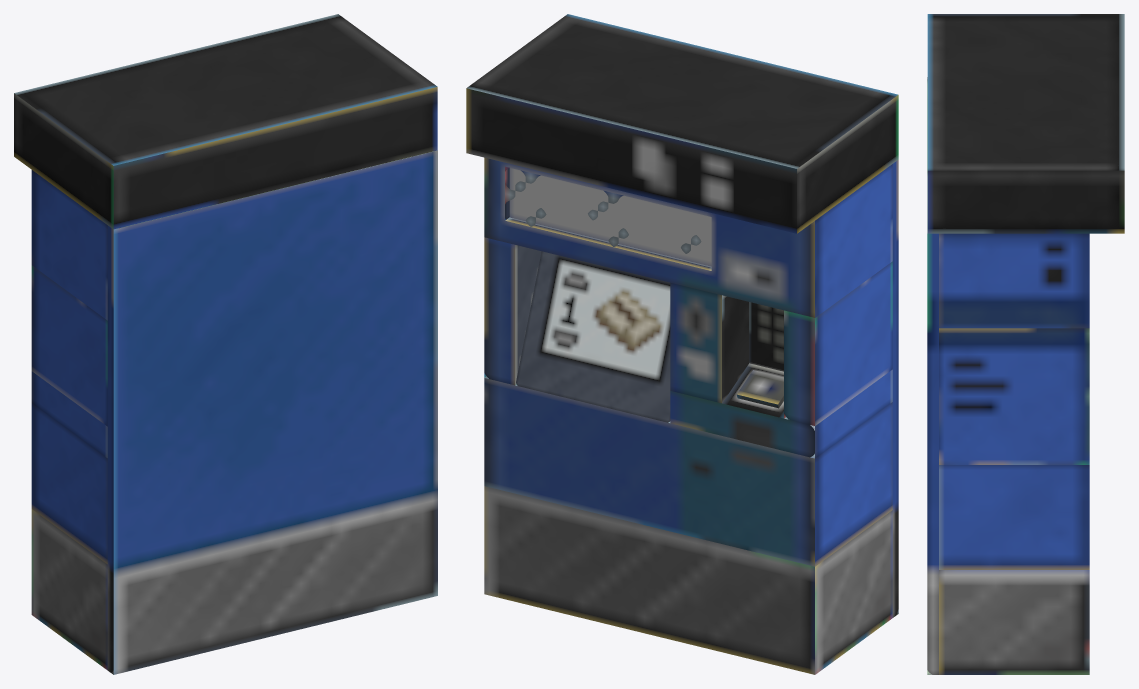
The model's file is GO_AHEAD_Fahrkartenautomat.obj.
The picture shows the model from 3 angles, left to right: view 1: azimuth 30°, elevation 25°; view 2: azimuth 150°, elevation 25°; view 3: azimuth 270°, elevation 25°; orthographic projection. The views are drawn at different scales.
Visible parts, largest first — view 1: cube; view 2: cube; view 3: cube.
Boxes of the visible parts, x1=… form: cube: x1=14, y1=14, x2=437, y2=674; cube: x1=466, y1=14, x2=898, y2=674; cube: x1=927, y1=14, x2=1124, y2=674.
Bounding box in the file's own units: 2 × 3 × 1.06.
